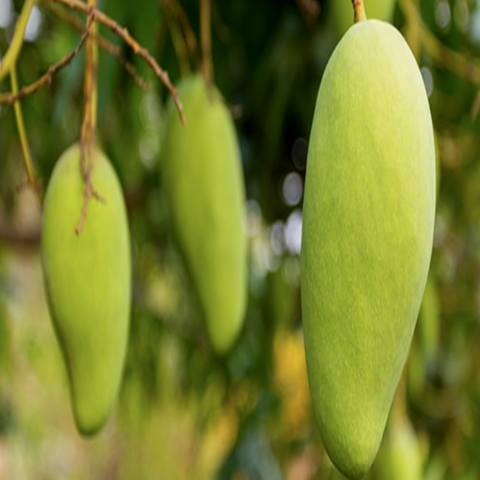mango: (279, 5, 460, 480), (149, 65, 259, 374), (30, 133, 135, 445)
